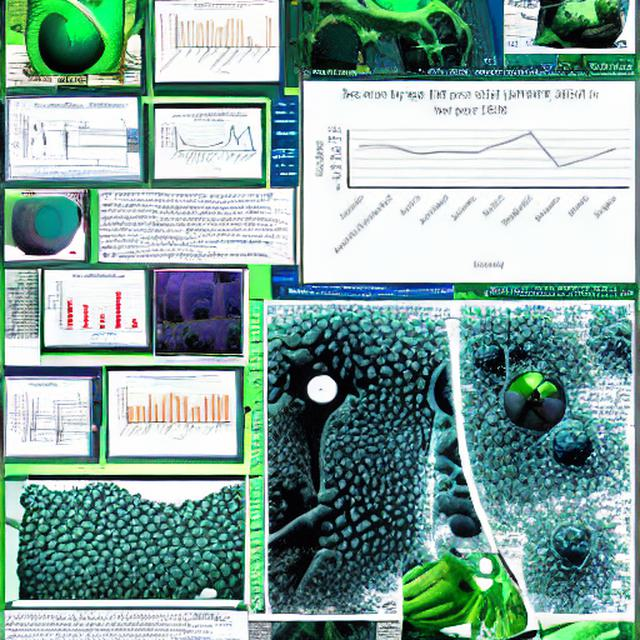Graph: (307, 82, 634, 277), (158, 1, 276, 77), (113, 372, 232, 444), (46, 273, 143, 339), (159, 112, 258, 171)
